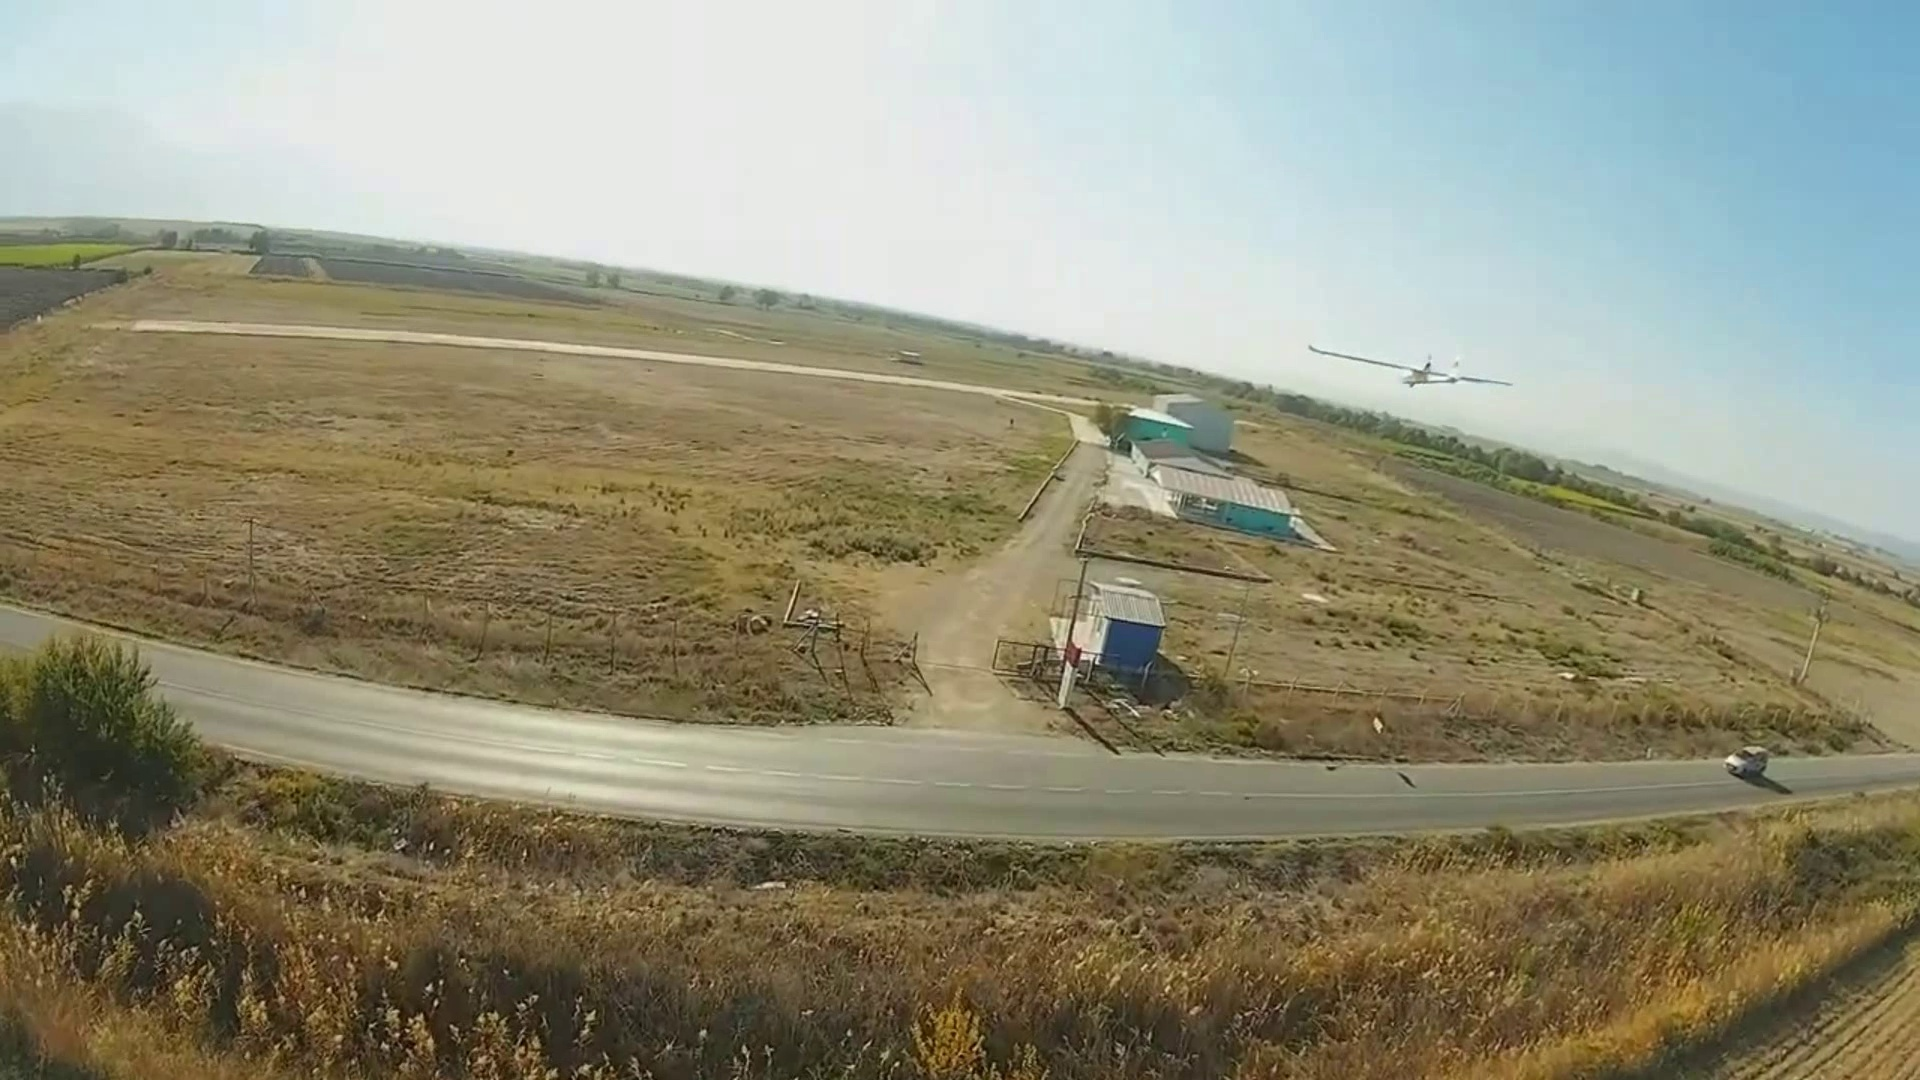airplane: (1106, 400, 1327, 550), (1305, 331, 1516, 392)
